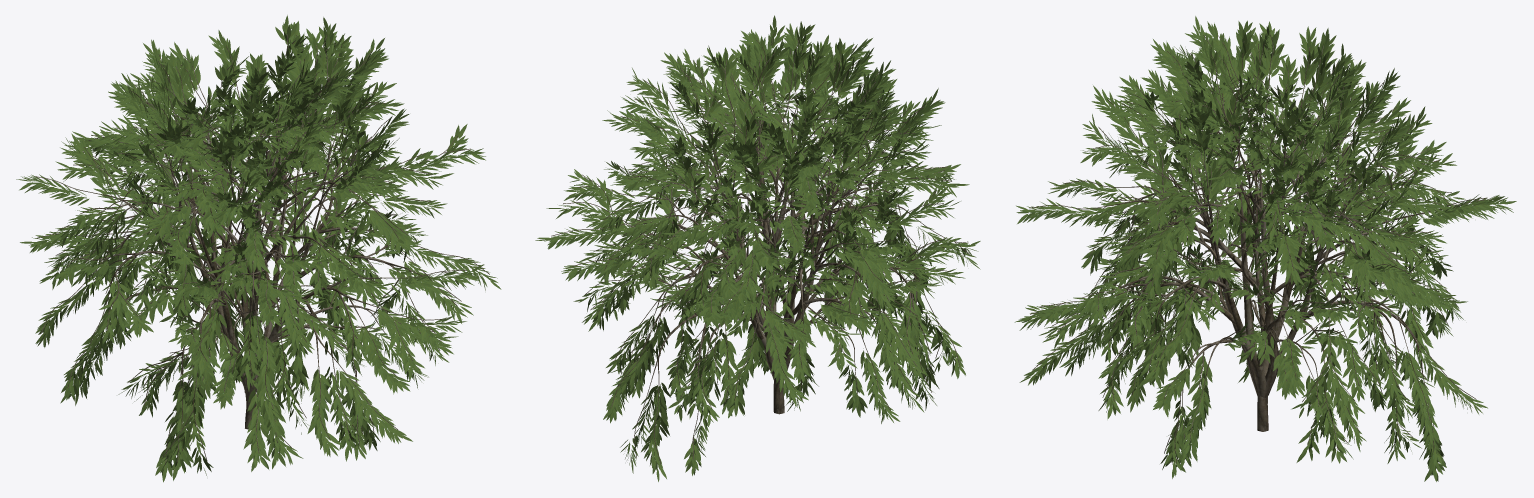
File: Bush(Small).fbx
3 views of the same model, side by side, from view 1: azimuth 30°, elevation 25°; view 2: azimuth 150°, elevation 25°; view 3: azimuth 270°, elevation 25° (orthographic). The views are drawn at different scales.
Visible parts, largest first — view 1: Bush(Small); view 2: Bush(Small); view 3: Bush(Small).
Part boxes in pixels (x1,y1,x2,y2): Bush(Small): (16, 15, 501, 482); Bush(Small): (535, 15, 980, 481); Bush(Small): (1014, 16, 1516, 481).
Size of the model in its own units: 152 by 155 by 171.
